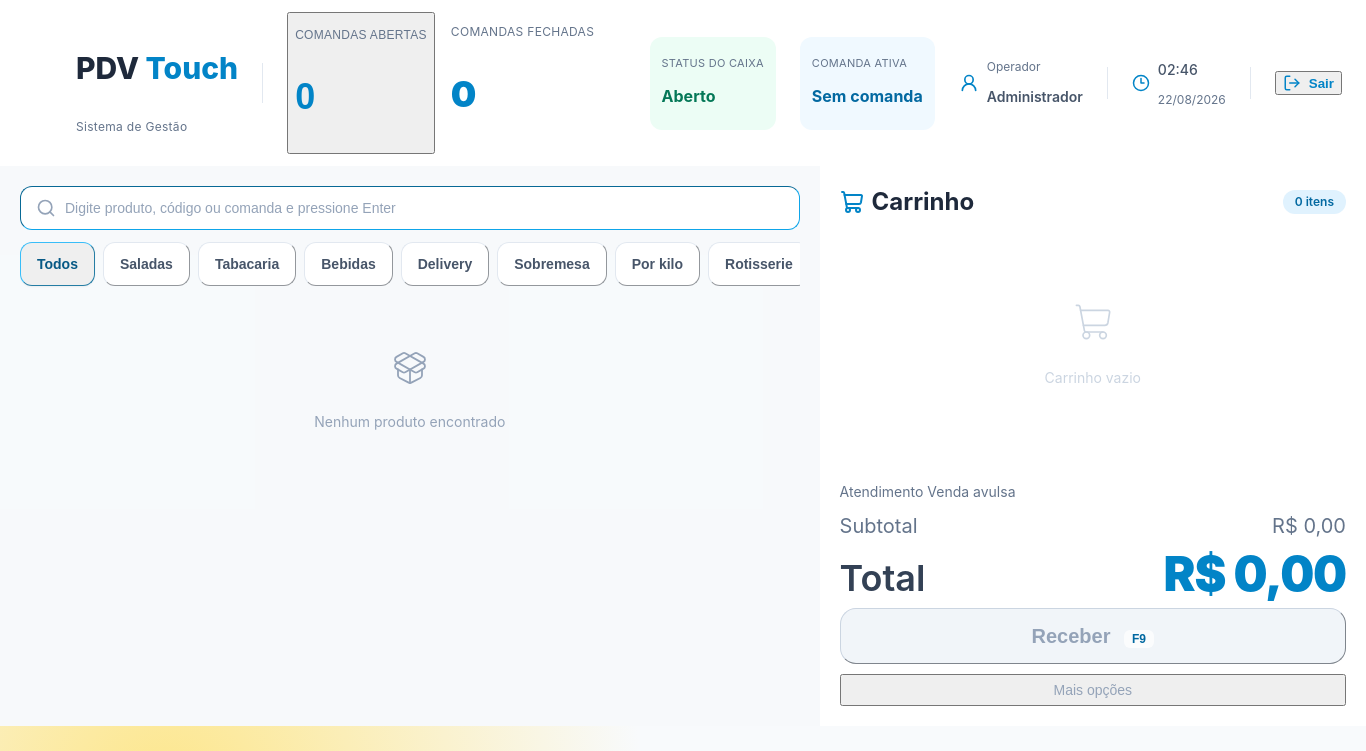
Test: Carregamento da comanda no caixa › mantém a comanda aberta pelo botão do cabeçalho
This screenshot has width=1366, height=751.
Step 1. Type "1" into the field with placeholder "Digite produto, código ou comanda e pressione Enter" → (410, 208), box [20, 186, 800, 230]
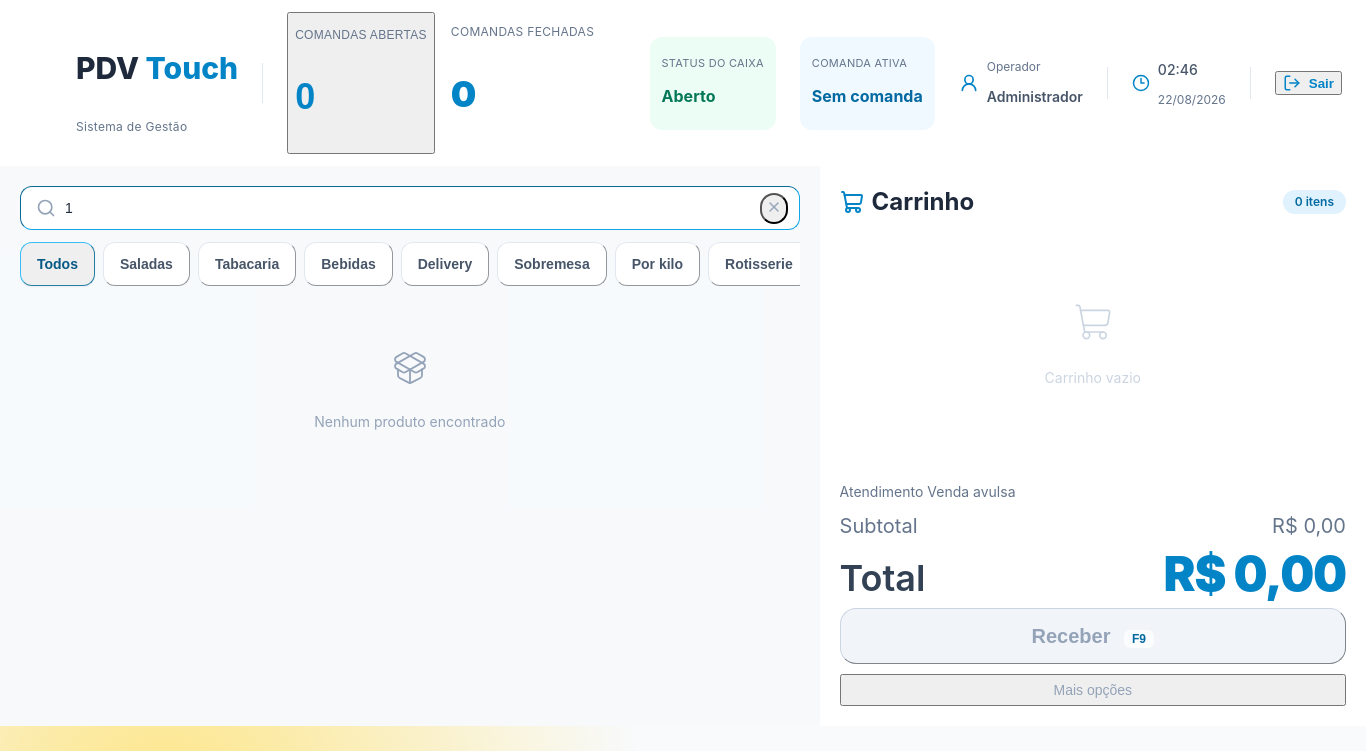
Step 2. Press Enter in the field with placeholder "Digite produto, código ou comanda e pressione Enter", box [20, 186, 800, 230]
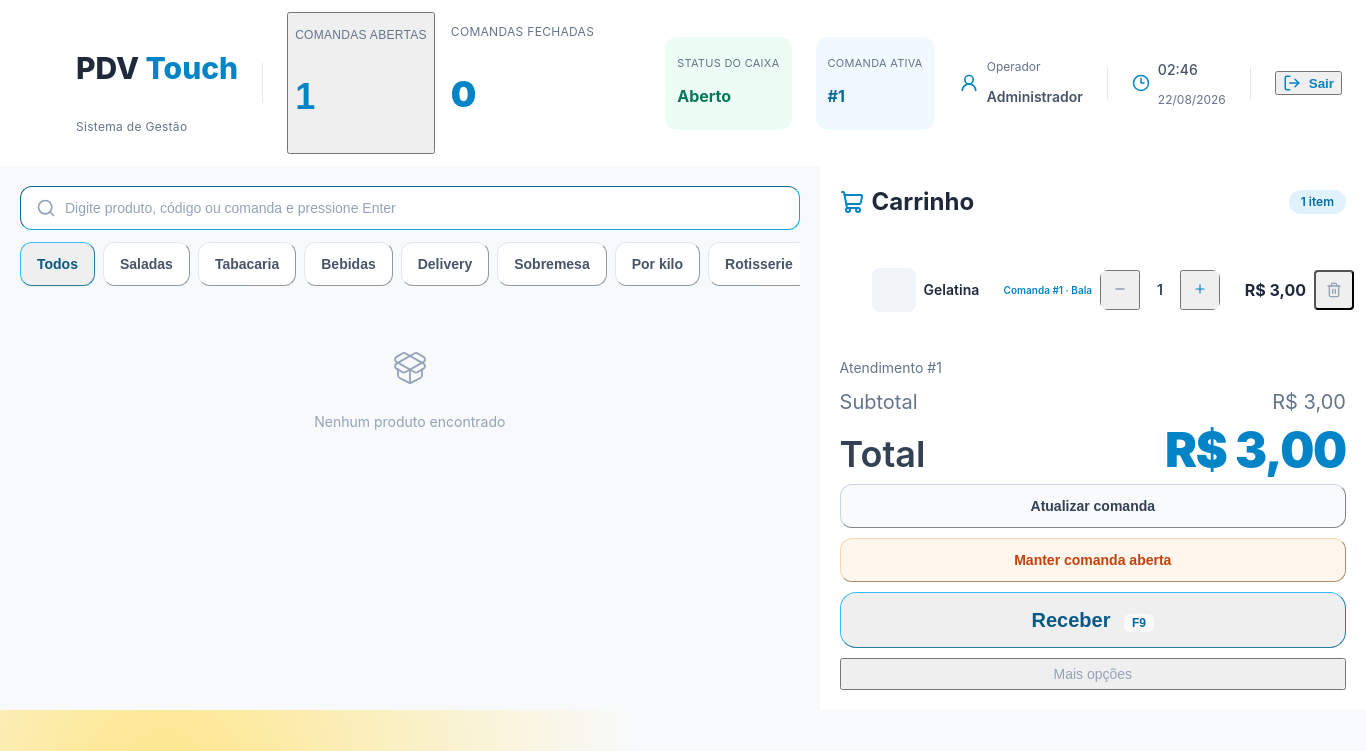
Check: the text "Gelatina" is shown, box [924, 281, 979, 298]
Step 3. Click the button "Manter comanda aberta" → (1093, 560), box [840, 538, 1346, 582]
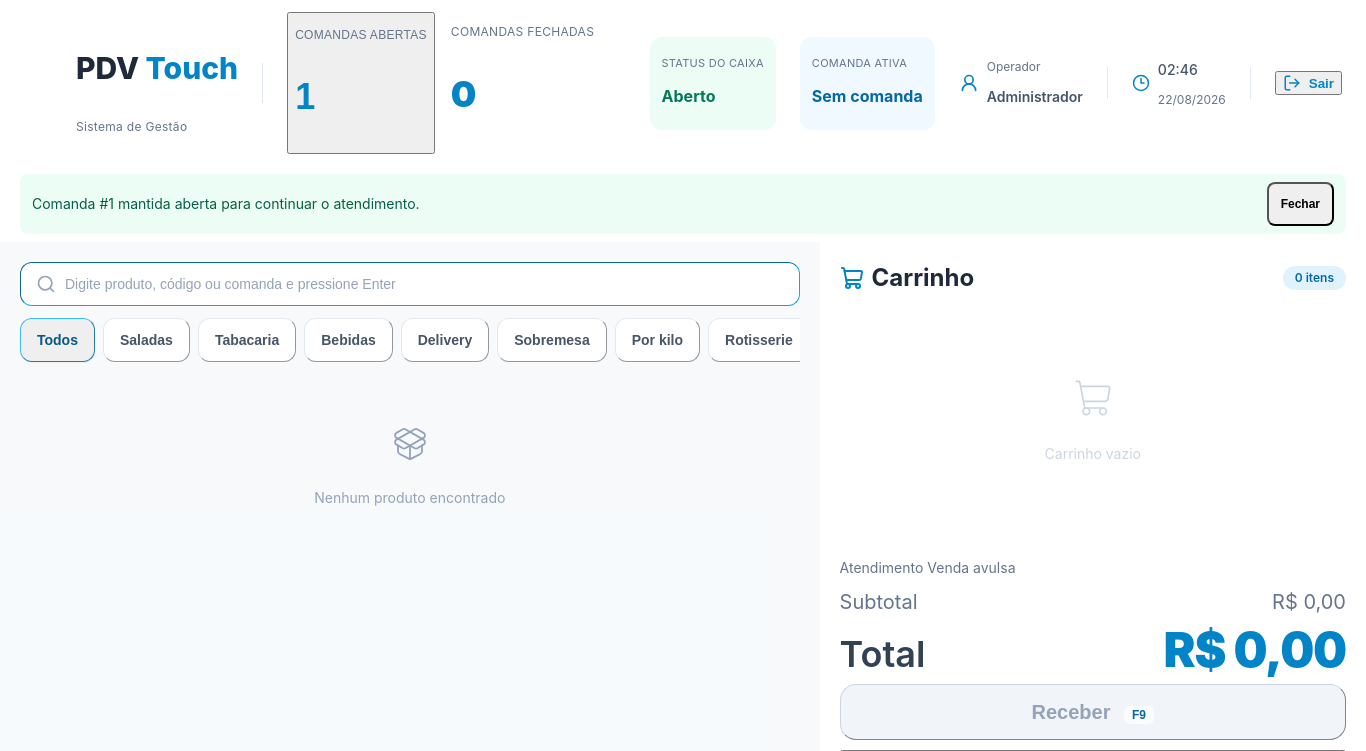
Check: the text "Sem comanda" is shown, box [812, 86, 923, 106]
Check: the text "Gelatina" is gone
Check: the text "Comanda #1 mantida aberta para continuar o atendimento." is shown, box [32, 194, 420, 214]
